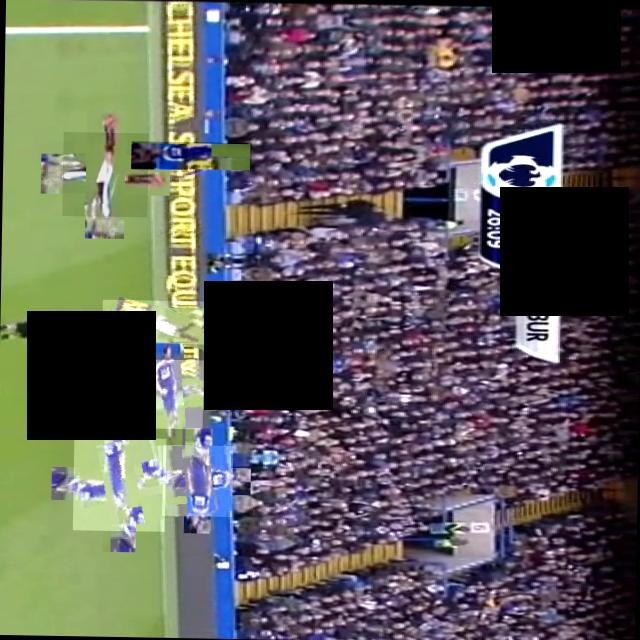referee: (0, 299, 115, 351)
soccer-player: (72, 436, 166, 530), (62, 130, 148, 216), (101, 298, 216, 343), (162, 444, 232, 516), (132, 358, 203, 428), (131, 140, 251, 168)
